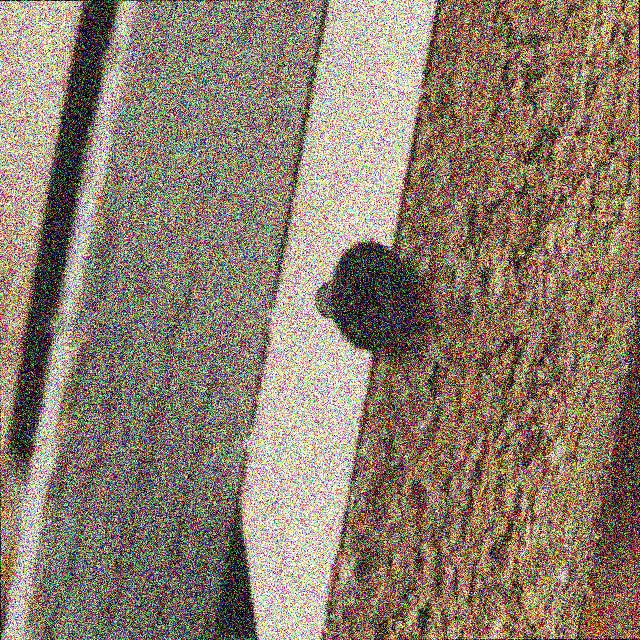phillips: (330, 241, 412, 351)
